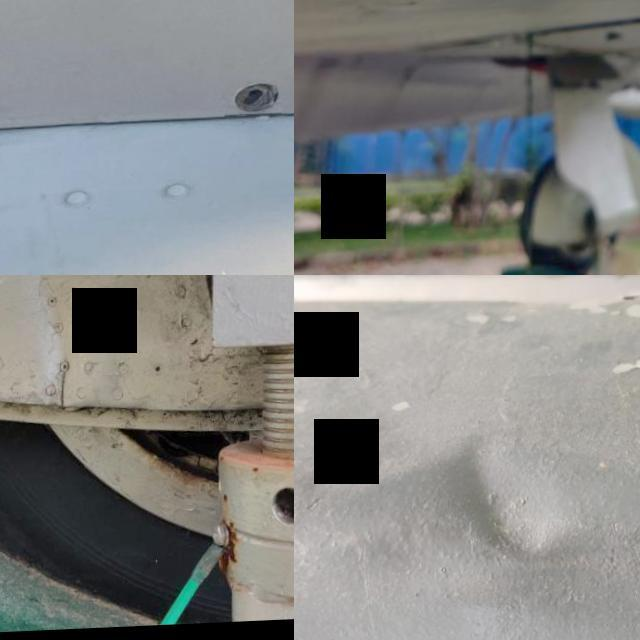Crack: (45, 363, 81, 417)
Dent: (434, 423, 584, 594)
Missing_Fastener: (226, 82, 284, 120)
